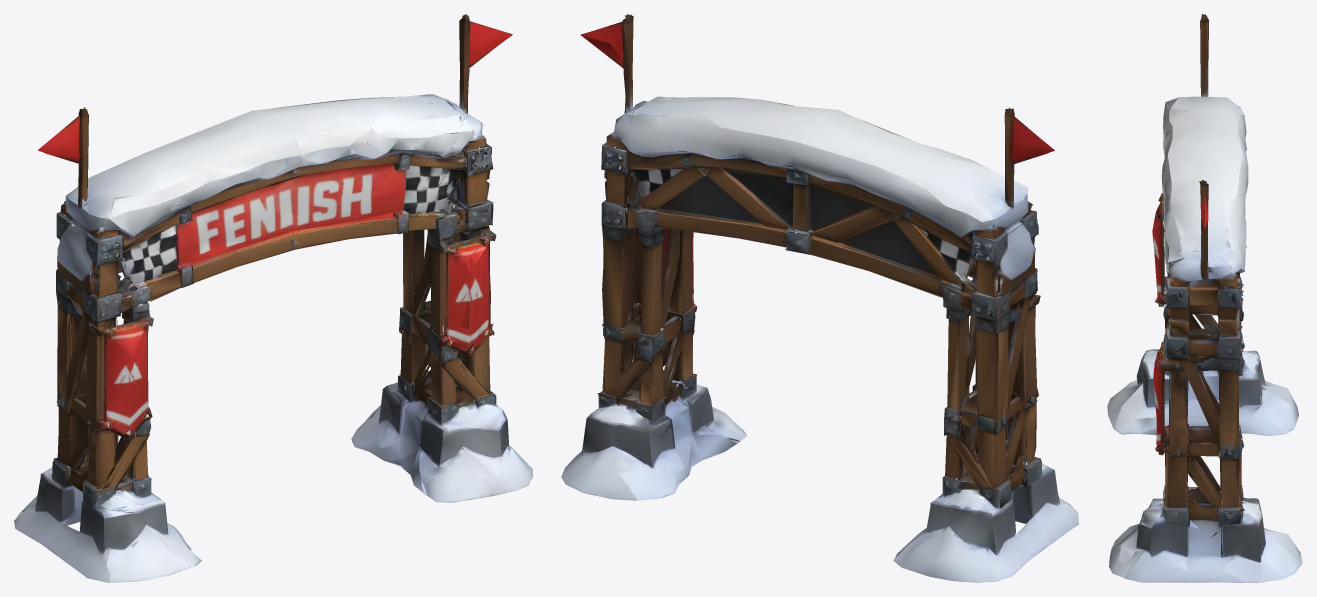
File: finish_arch_gen.glb
The picture shows the model from 3 angles, left to right: view 1: azimuth 30°, elevation 25°; view 2: azimuth 150°, elevation 25°; view 3: azimuth 270°, elevation 25°; orthographic projection. The views are drawn at different scales.
Parts seen in each view (by area): view 1: finish_arch_gen; view 2: finish_arch_gen; view 3: finish_arch_gen.
Part boxes in pixels (<box>): finish_arch_gen: <box>14,14,532,582</box>; finish_arch_gen: <box>561,14,1078,582</box>; finish_arch_gen: <box>1107,14,1302,582</box>.
Size of the model in its own units: 18.2 by 16.02 by 7.27.
1 material, 1 textured.
